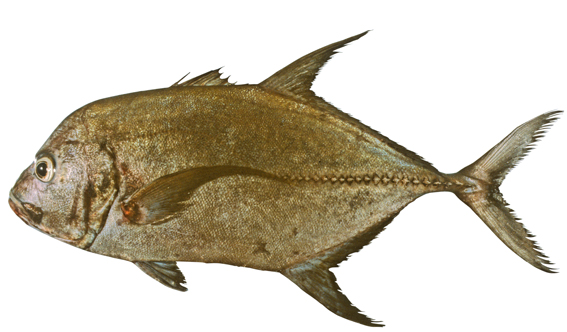fish: (9, 29, 563, 327)
